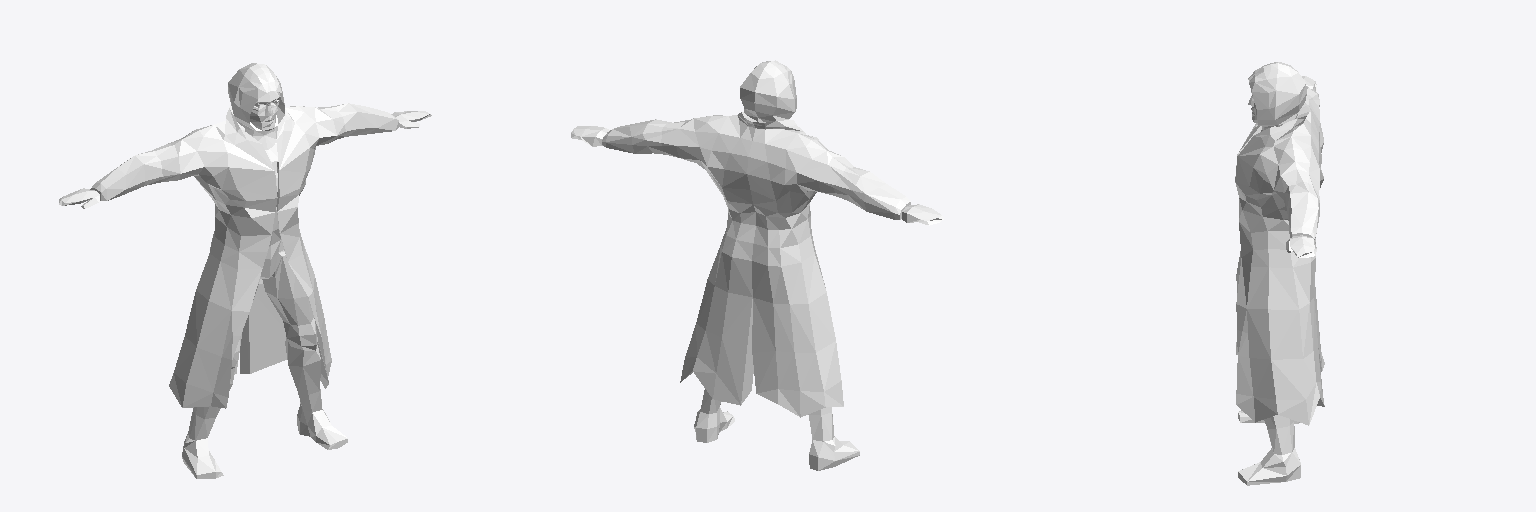
The model's file is hooded_2_all.obj.
3 views of the same model, side by side, from view 1: azimuth 30°, elevation 25°; view 2: azimuth 150°, elevation 25°; view 3: azimuth 270°, elevation 25° (orthographic).
Visible parts, largest first — view 1: hooded_2_coat, hooded_2_body, hooded_2_hood; view 2: hooded_2_coat, hooded_2_body, hooded_2_hood; view 3: hooded_2_coat, hooded_2_body, hooded_2_hood.
Part boxes in pixels (bbox=[...]): hooded_2_coat: bbox=[90, 103, 398, 408]; hooded_2_body: bbox=[59, 91, 431, 478]; hooded_2_hood: bbox=[228, 63, 284, 149]; hooded_2_coat: bbox=[602, 112, 910, 417]; hooded_2_body: bbox=[571, 126, 943, 470]; hooded_2_hood: bbox=[740, 60, 796, 121]; hooded_2_coat: bbox=[1235, 86, 1324, 425]; hooded_2_body: bbox=[1238, 76, 1316, 485]; hooded_2_hood: bbox=[1248, 62, 1306, 131].
Bounding box in the file's own units: 100 × 99.81 × 21.12.